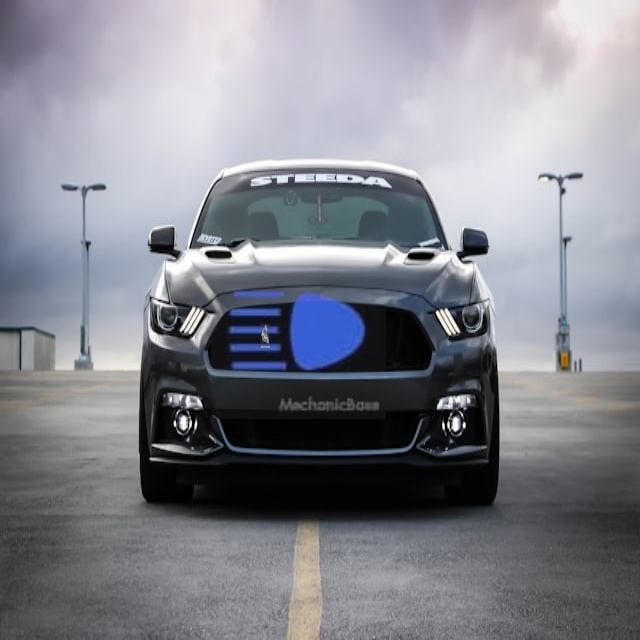symbol: (211, 244, 386, 419)
